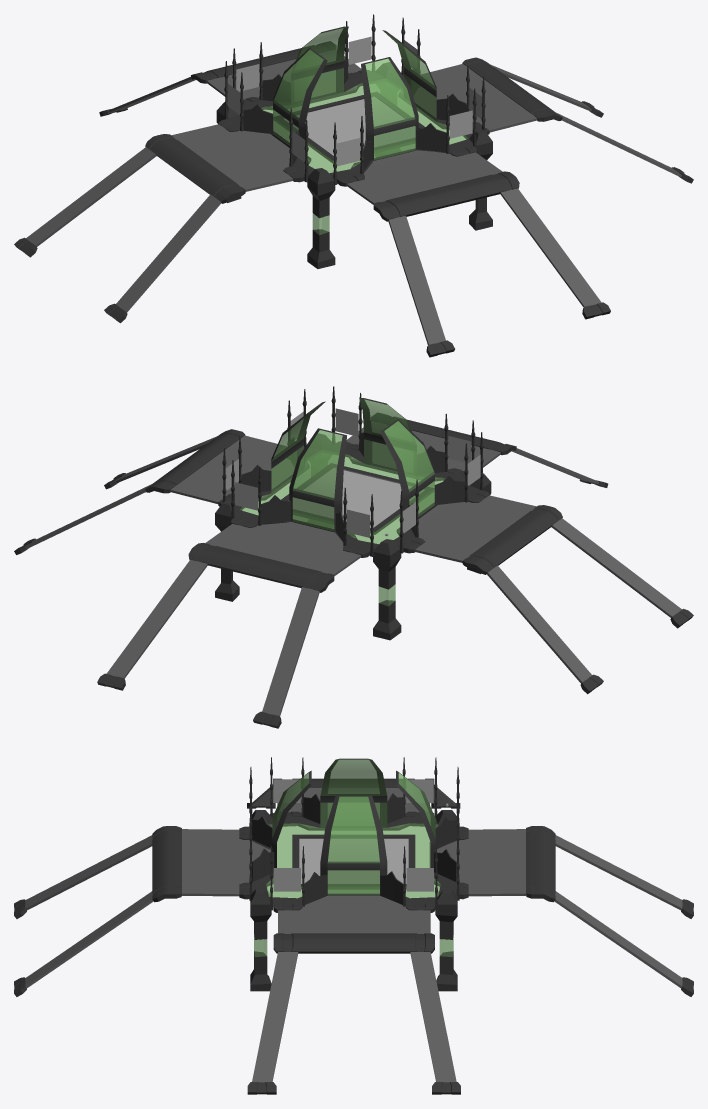
The model's file is ghost_home.fbx.
The picture shows the model from 3 angles, top to bottom: view 1: azimuth 30°, elevation 25°; view 2: azimuth 150°, elevation 25°; view 3: azimuth 270°, elevation 25°; orthographic projection. The views are drawn at different scales.
Visible parts, largest first — view 1: polySurface2405; view 2: polySurface2405; view 3: polySurface2405.
Part boxes in pixels (x1,y1,x2,y2): polySurface2405: [14, 14, 693, 357]; polySurface2405: [14, 386, 693, 728]; polySurface2405: [14, 757, 693, 1094].
Size of the model in its own units: 291 by 82.14 by 290.
